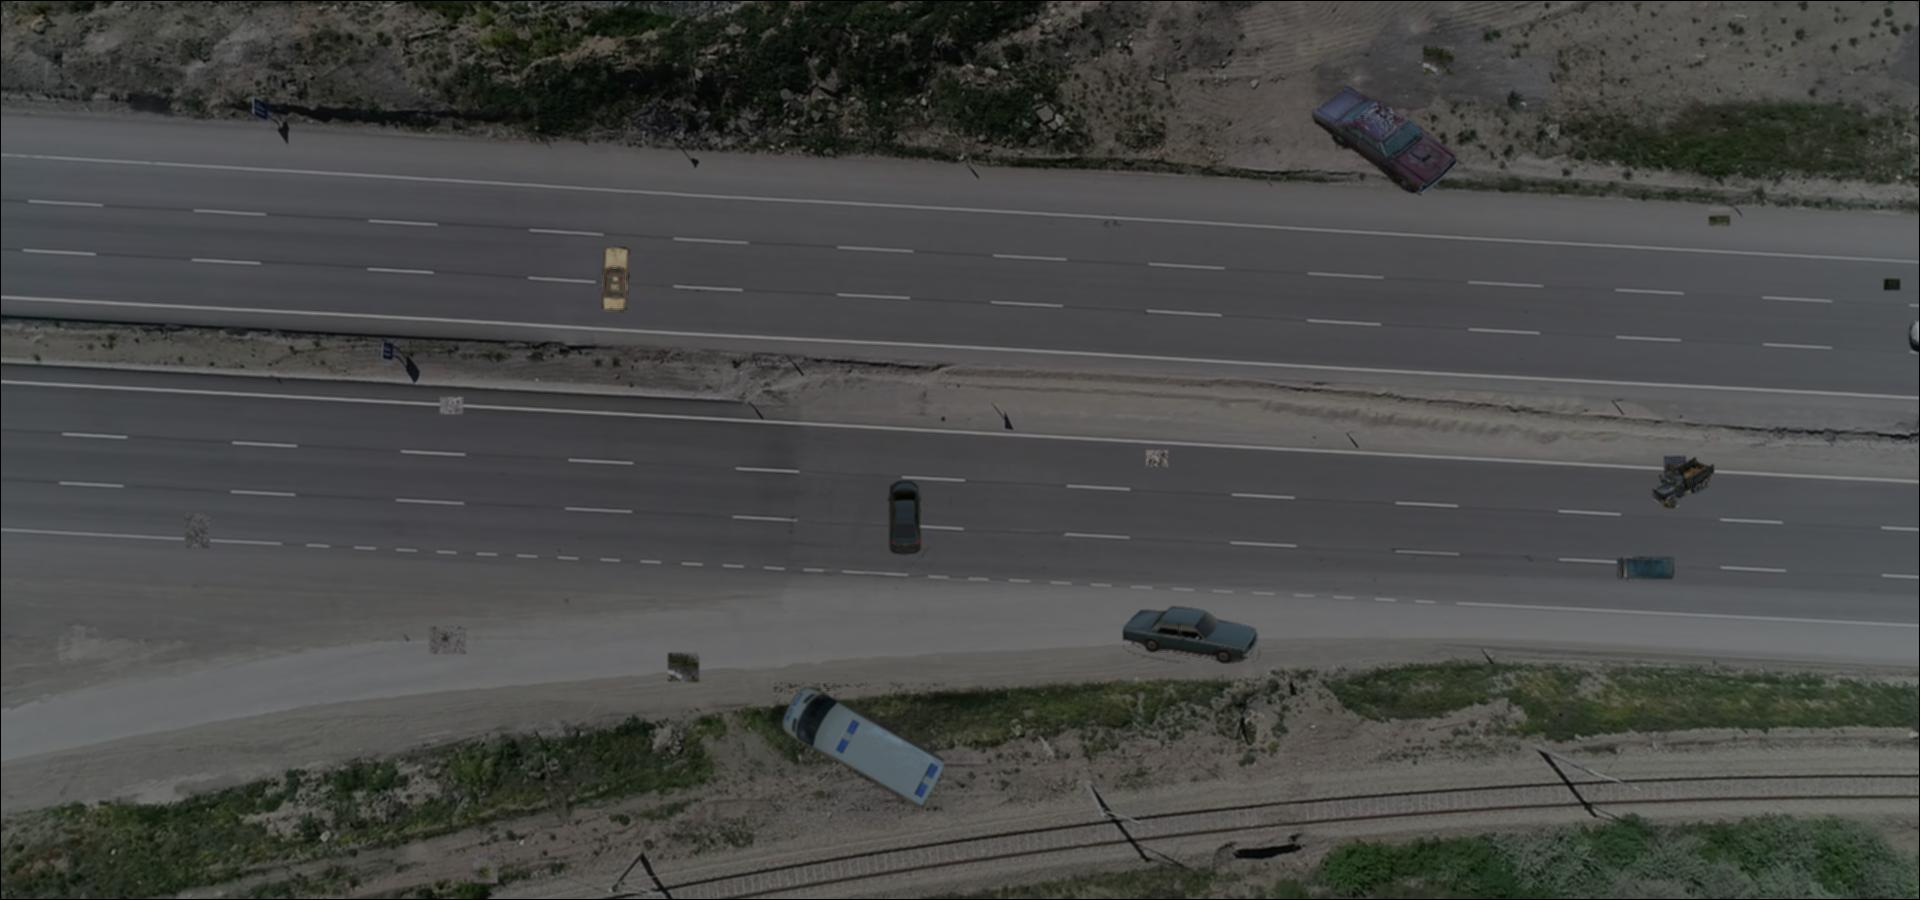arac: (774, 683, 944, 811), (1305, 81, 1461, 195), (1123, 606, 1260, 662), (1652, 456, 1714, 508), (885, 481, 924, 556), (599, 247, 631, 312), (1616, 556, 1675, 580)
